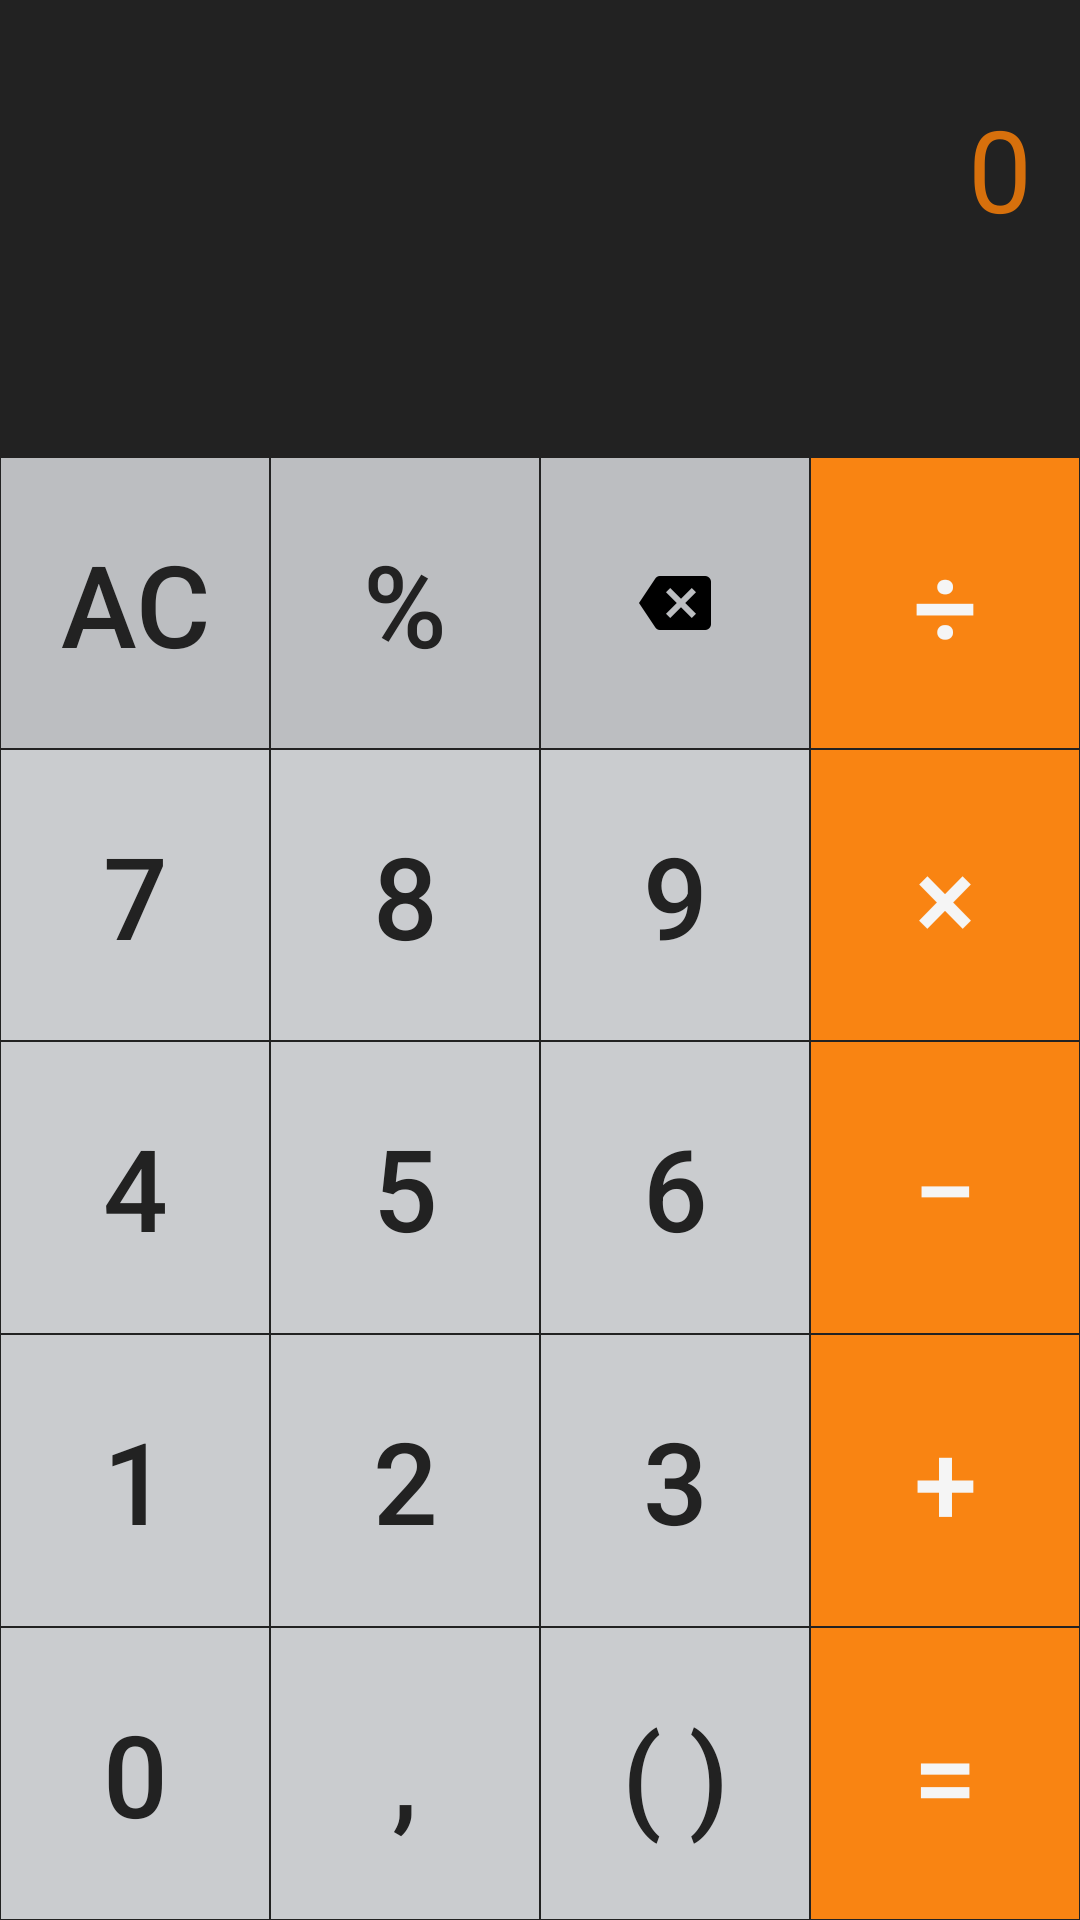

Screen size 1080 × 1920. Icon name, then its center in pixels as (x=x, y=y):
backspace: (x=675, y=603)
